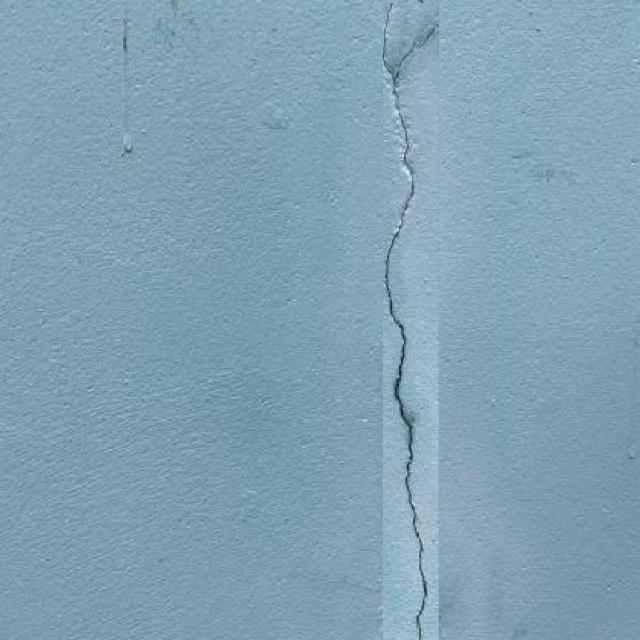multi-branched crack: (383, 3, 438, 640)
